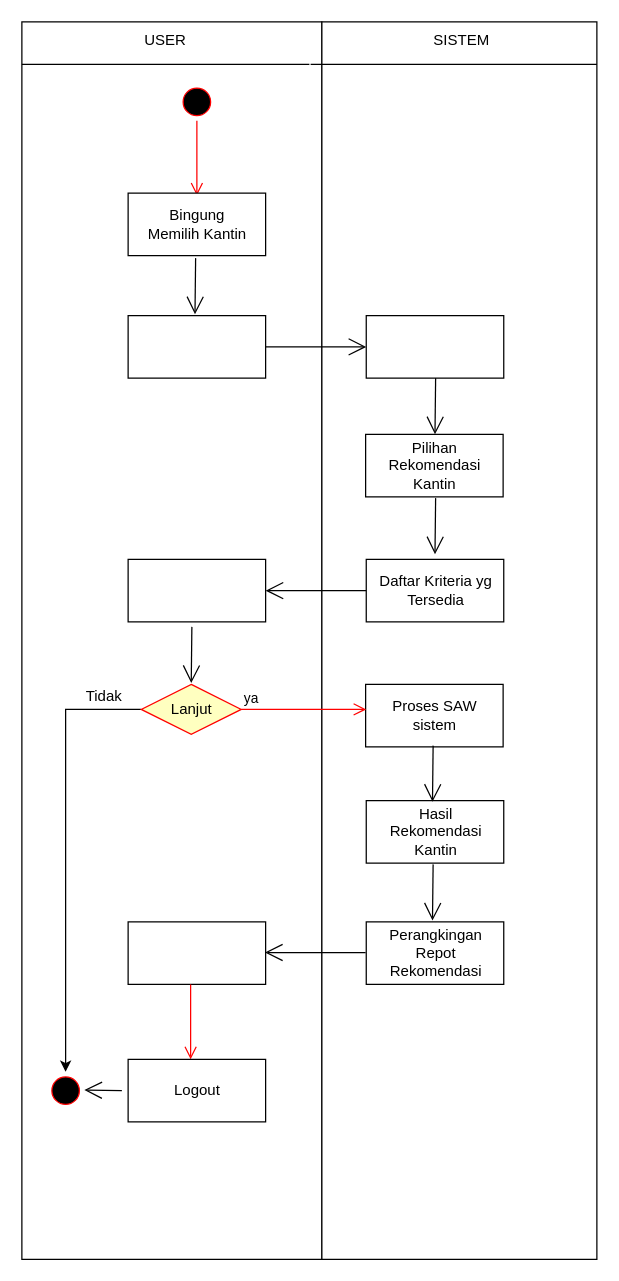
Some shapes in this 619 by 1281 pixel diagram are drawn without their labels. Each missing label, with the centre of its shape:
Login SPK: (x=196, y=346)
Memilih Kantin: (x=196, y=952)
Memilih Kriteria: (x=196, y=590)
Pilihan Rekomendasi Makanan: (x=434, y=346)
